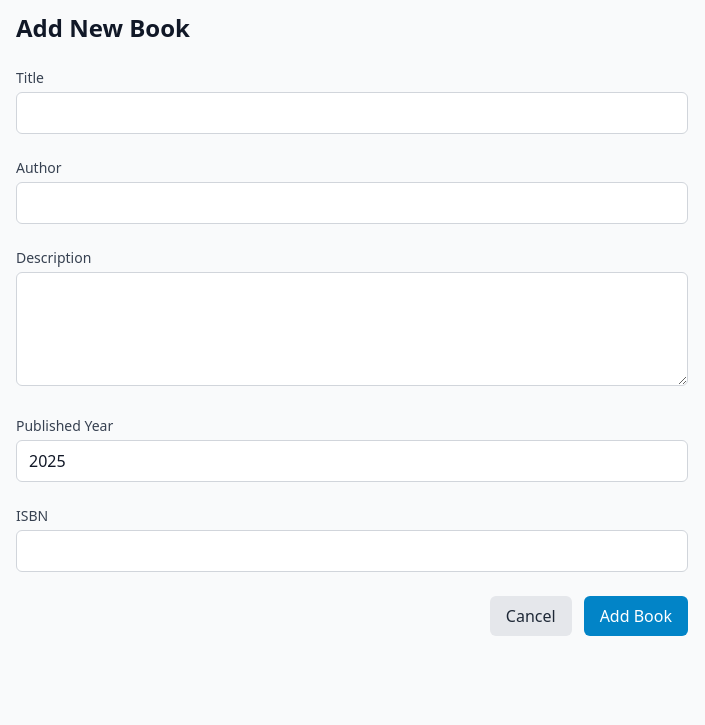
BookForm › Create Mode › shows error message when creation fails
Fill in the form
Type "New Book" into the field labelled "Title" at coordinates (352, 113), box x1=16 y1=92 x2=688 y2=134
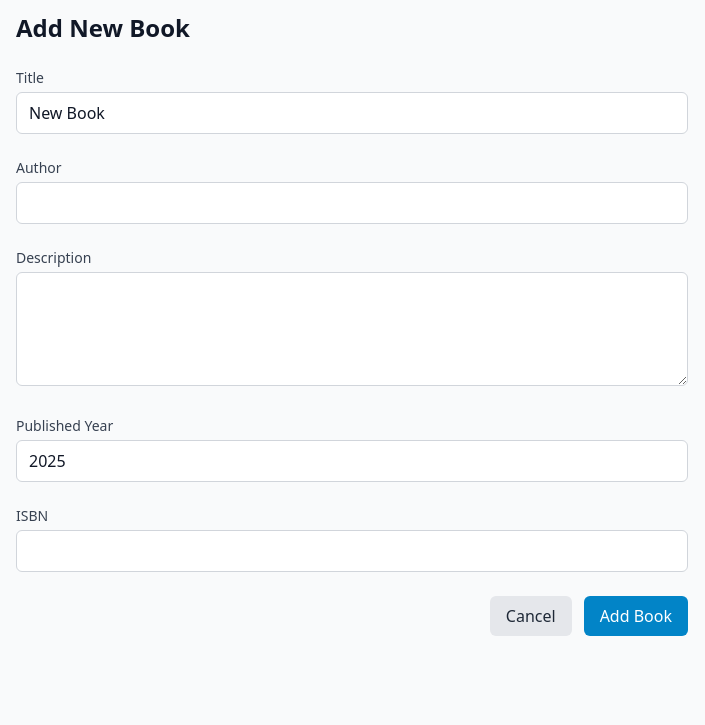
Type "New Author" into the field labelled "Author" at coordinates (352, 203), box x1=16 y1=182 x2=688 y2=224
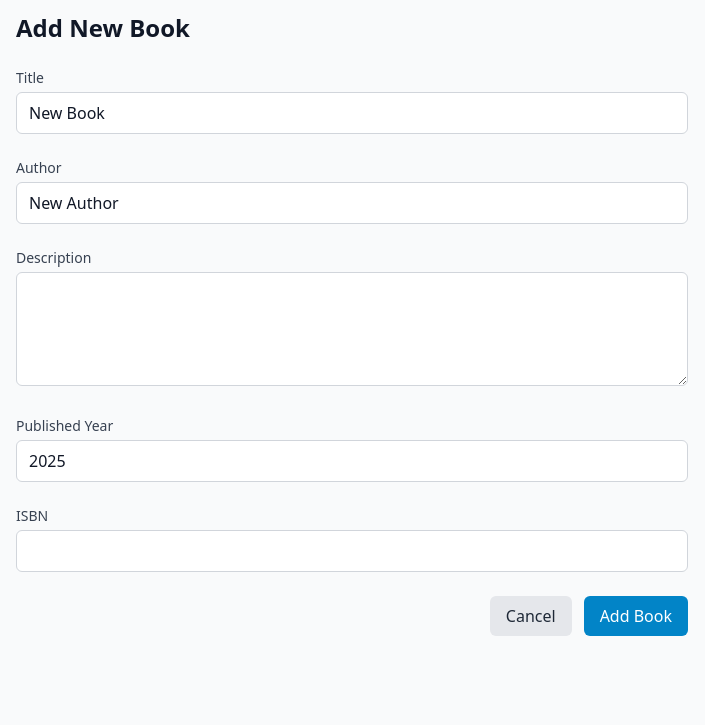
Type "New Description" into the text box labelled "Description" at coordinates (352, 329), box x1=16 y1=272 x2=688 y2=386
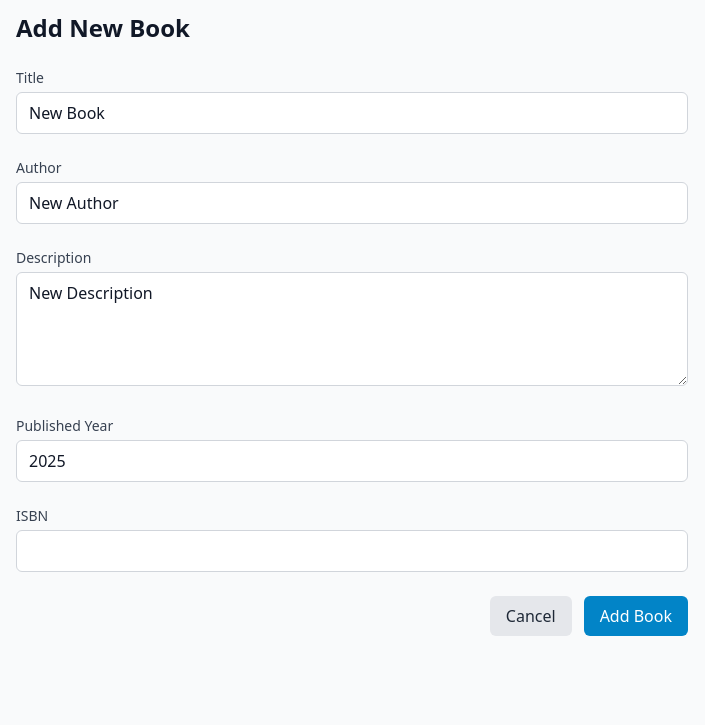
Replace the text in the number field labelled "Published Year" with "2024" at coordinates (352, 461), box x1=16 y1=440 x2=688 y2=482
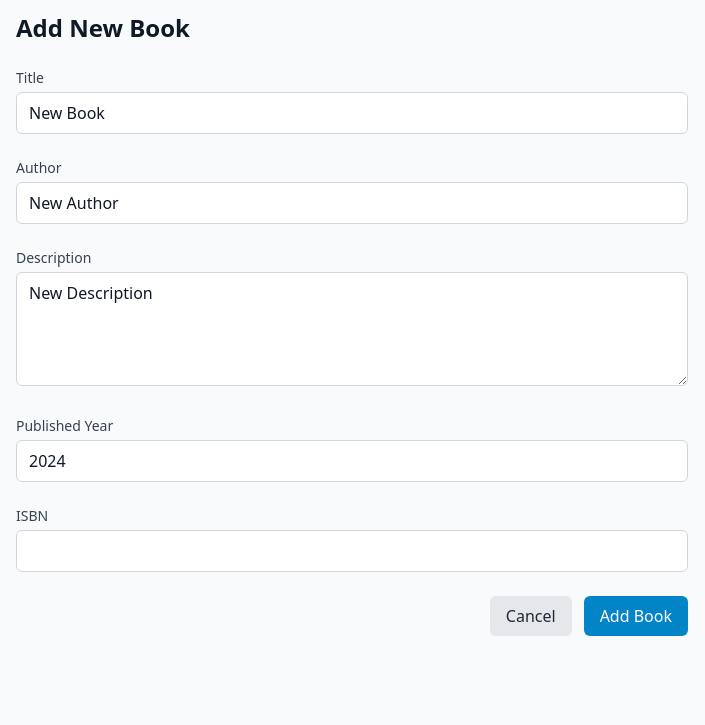
Type "978-1234567890" into the field labelled "ISBN" at coordinates (352, 551), box x1=16 y1=530 x2=688 y2=572
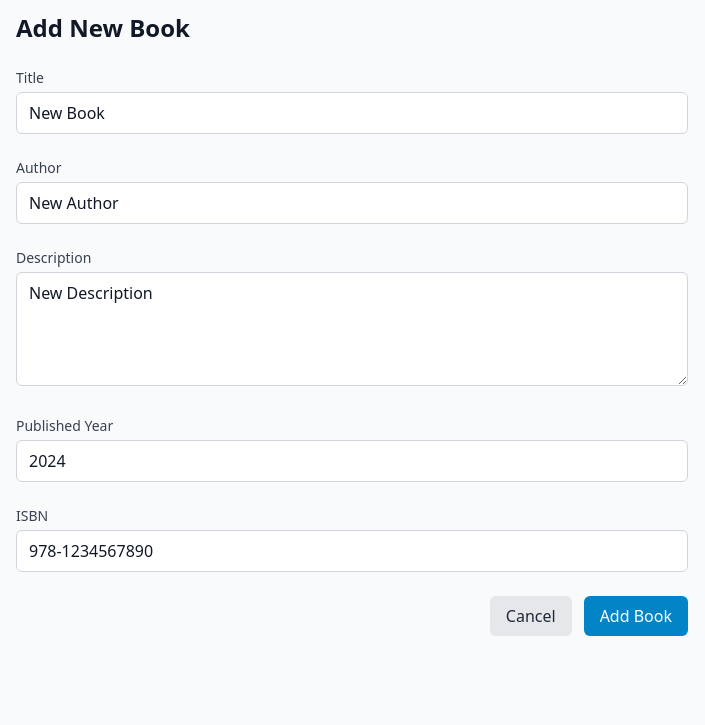
Submit the form
Click the button "Add Book" at coordinates (636, 616), box x1=584 y1=596 x2=688 y2=636
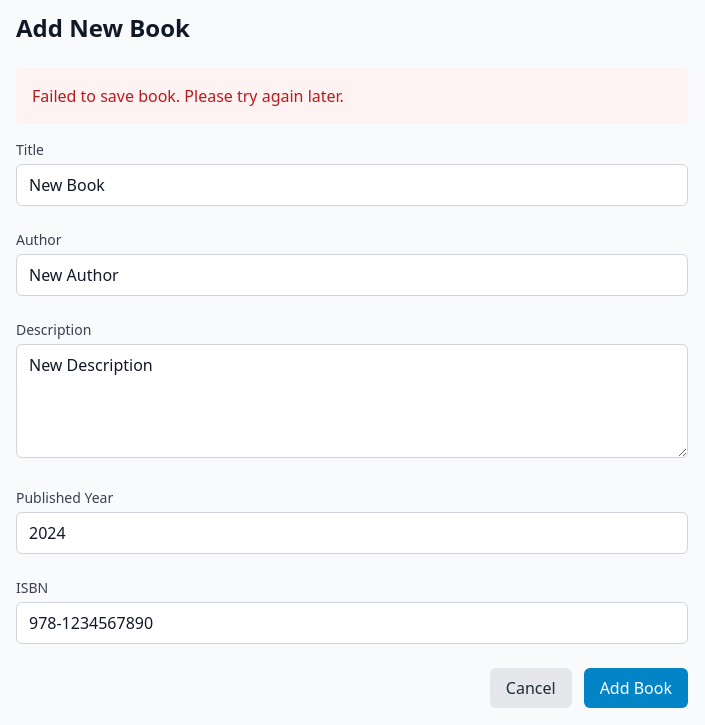
Result: the text "Failed to save book. Please try again later." is shown at x1=16 y1=68 x2=688 y2=124
